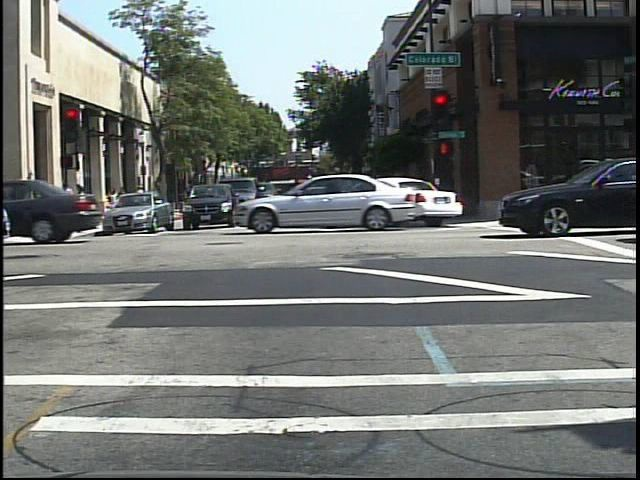person: (131, 181, 151, 220), (136, 181, 150, 215)
